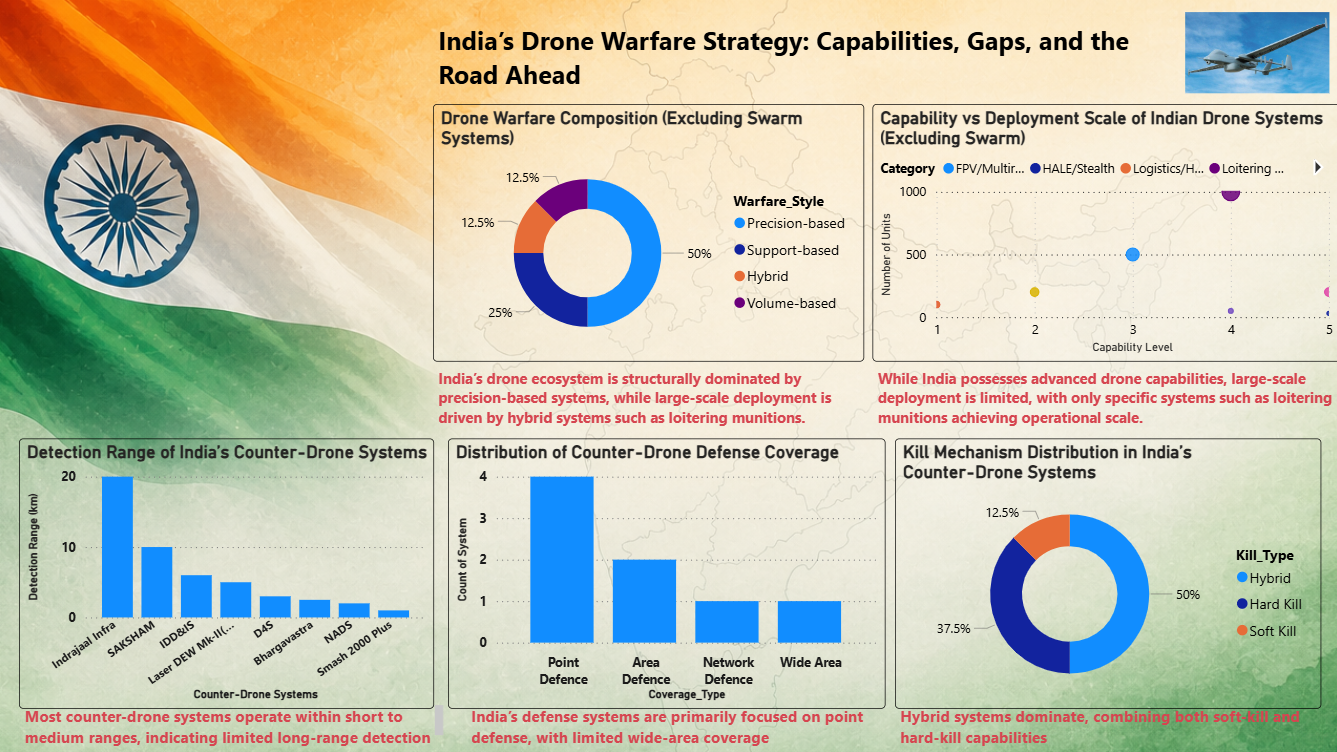

The dashboard page shown, as its layout file describes it:
{"tool":"powerbi","page":{"name":"India's Drone Warfare Strategy","canvas":[1280,720],"ordinal":1},"visuals":[{"type":"image","box":[1120.5,7.6,159,87.8],"z":0},{"type":"donutChart","title":"Drone Warfare Composition (Excluding Swarm Systems)","fields":{"Category":["India_Drone_Categories_Std.Warfare_Style"],"Y":["CountNonNull(India_Drone_Categories_Std.Category)"]},"box":[414.9,99.9,410.3,245.3],"z":1000},{"type":"textbox","box":[414.9,345.2,396.7,72.7],"z":2000},{"type":"scatterChart","title":"Capability vs Deployment Scale of Indian Drone Systems (Excluding Swarm)","fields":{"X":["India_Drone_Categories_Std.Capability_Score"],"Y":["India_Drone_Categories_Std.Standard_Qty"],"Series":["India_Drone_Categories_Std.Category"],"Size":["Median(India_Drone_Categories_Std.Standard_Qty)1"]},"box":[833.3,100,446.7,245],"z":3000},{"type":"textbox","box":[414.9,16.7,689,78.7],"z":4000},{"type":"clusteredColumnChart","title":"Distribution of Counter-Drone Defense Coverage","fields":{"Y":["CountNonNull(India_Anti_Drone_Capability.System)"],"Category":["India_Anti_Drone_Capability.Coverage_Type"]},"box":[428.5,417.9,416.4,257.4],"z":5000},{"type":"textbox","box":[445.2,667.8,399.8,51.5],"z":6000},{"type":"donutChart","title":"Kill Mechanism Distribution in India’s Counter-Drone Systems","fields":{"Category":["India_Anti_Drone_Capability.Kill_Type"],"Y":["CountNonNull(India_Anti_Drone_Capability.System)"]},"box":[854,417.9,405.8,257.4],"z":7000},{"type":"textbox","box":[854,667.8,425.5,51.5],"z":8000},{"type":"clusteredColumnChart","title":"Detection Range of India’s Counter-Drone Systems","fields":{"Category":["India_Anti_Drone_Capability.System"],"Y":["Sum(India_Anti_Drone_Capability.Detection_Range_km)"]},"box":[19.7,417.9,395.2,257.4],"z":9000},{"type":"textbox","box":[19.7,667.8,408.8,51.5],"z":10000},{"type":"textbox","box":[832.8,345.2,446.7,72.7],"z":11000}]}

Visuals, with their boxes in screenshot pixels (x1, y1, x2, y2), scaled from the page's 1280x720 canvas onto the 1337x752 screenshot:
image: <region>1170, 8, 1336, 100</region>
"Drone Warfare Composition (Excluding Swarm Systems)" donutChart: <region>433, 104, 862, 361</region>
textbox: <region>433, 361, 848, 436</region>
"Capability vs Deployment Scale of Indian Drone Systems (Excluding Swarm)" scatterChart: <region>870, 104, 1336, 360</region>
textbox: <region>433, 17, 1153, 100</region>
"Distribution of Counter-Drone Defense Coverage" clusteredColumnChart: <region>448, 436, 883, 705</region>
textbox: <region>465, 697, 883, 751</region>
"Kill Mechanism Distribution in India’s Counter-Drone Systems" donutChart: <region>892, 436, 1316, 705</region>
textbox: <region>892, 697, 1336, 751</region>
"Detection Range of India’s Counter-Drone Systems" clusteredColumnChart: <region>21, 436, 433, 705</region>
textbox: <region>21, 697, 448, 751</region>
textbox: <region>870, 361, 1336, 436</region>
